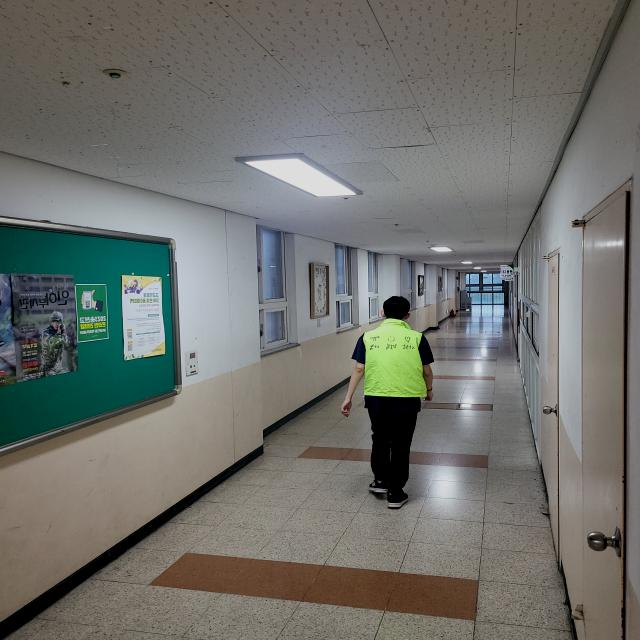weston_spy: (347, 306, 431, 410)
